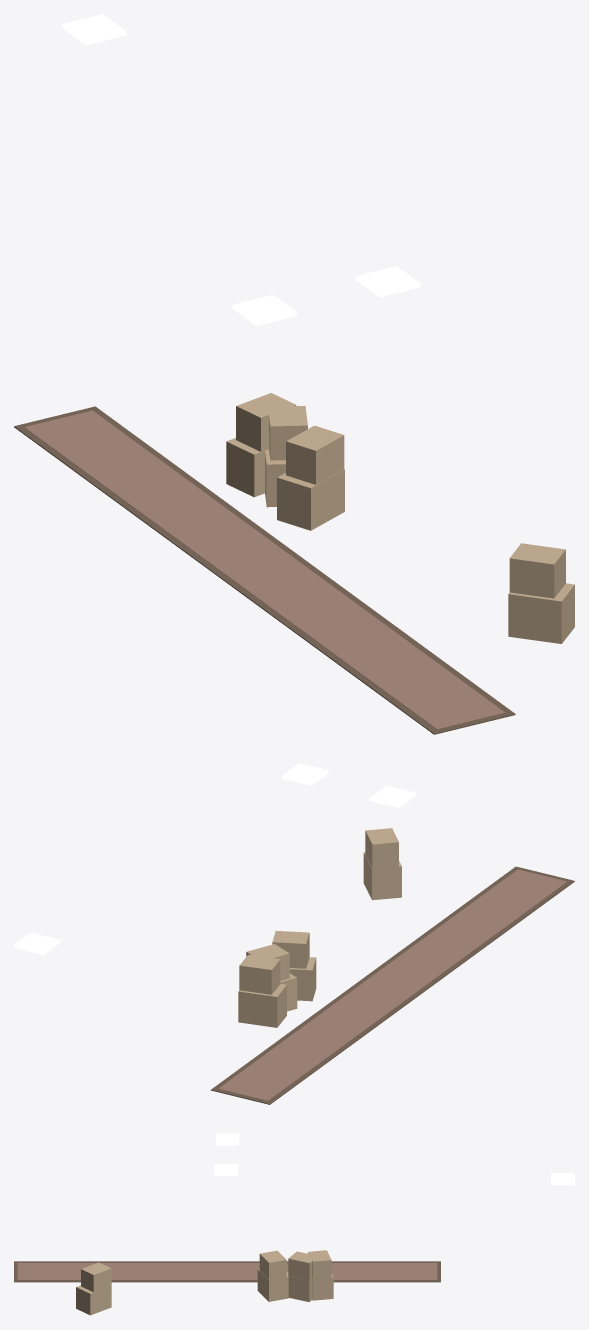
The model's file is fine-s0.glb.
3 renders of one model, top to bottom at view 1: azimuth 30°, elevation 25°; view 2: azimuth 150°, elevation 25°; view 3: azimuth 270°, elevation 25°, orthographic. The views are drawn at different scales.
Parts seen in each view (by area): view 1: soft-s0, crate.000, cardboard-box.002, cardboard-box.000, cardboard-box.001, ceiling-lamp.001, ceiling-lamp.002, ceiling-lamp.000; view 2: soft-s0, cardboard-box.000, cardboard-box.002, crate.000, cardboard-box.001, ceiling-lamp.000, ceiling-lamp.002, ceiling-lamp.001; view 3: soft-s0, cardboard-box.002, crate.000, cardboard-box.001, cardboard-box.000, ceiling-lamp.000, ceiling-lamp.001, ceiling-lamp.002.
Part boxes in pixels (x1,y1,x2,y2): soft-s0: [14, 406, 515, 734]; crate.000: [277, 425, 344, 530]; cardboard-box.002: [508, 543, 574, 643]; cardboard-box.000: [226, 393, 296, 497]; cardboard-box.001: [265, 406, 307, 507]; ceiling-lamp.001: [62, 14, 126, 45]; ceiling-lamp.002: [356, 266, 420, 297]; ceiling-lamp.000: [232, 294, 296, 325]; soft-s0: [210, 866, 574, 1104]; cardboard-box.000: [238, 954, 286, 1027]; cardboard-box.002: [363, 828, 401, 900]; crate.000: [272, 931, 316, 1001]; cardboard-box.001: [246, 944, 297, 1011]; ceiling-lamp.000: [369, 785, 416, 807]; ceiling-lamp.002: [282, 763, 328, 785]; ceiling-lamp.001: [14, 932, 60, 955]; soft-s0: [14, 1261, 440, 1282]; cardboard-box.002: [76, 1262, 111, 1315]; crate.000: [257, 1250, 288, 1301]; cardboard-box.001: [286, 1251, 312, 1302]; cardboard-box.000: [308, 1250, 333, 1300]; ceiling-lamp.000: [215, 1133, 239, 1145]; ceiling-lamp.001: [551, 1173, 574, 1185]; ceiling-lamp.002: [214, 1163, 237, 1175].
Size of the model in its own units: 2.71 by 3.08 by 11.75.
